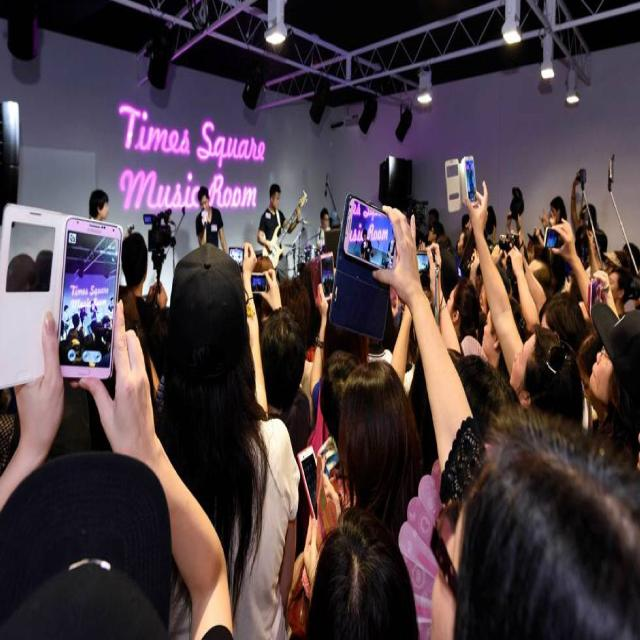body: (0, 226, 640, 558), (369, 199, 640, 639), (0, 300, 234, 640), (152, 241, 303, 640), (302, 359, 426, 602), (366, 144, 640, 227), (304, 502, 420, 640), (256, 182, 303, 285), (192, 184, 228, 257), (315, 204, 332, 253), (88, 188, 110, 224)
